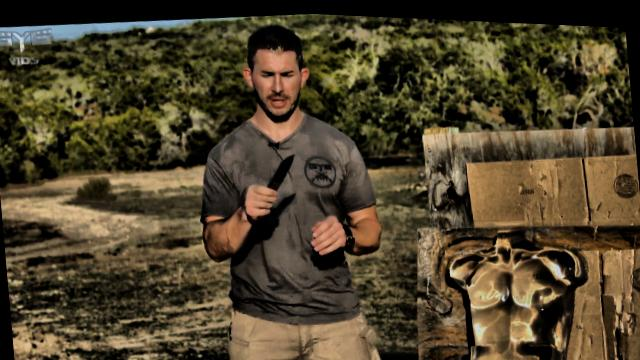knife: (242, 142, 308, 221)
